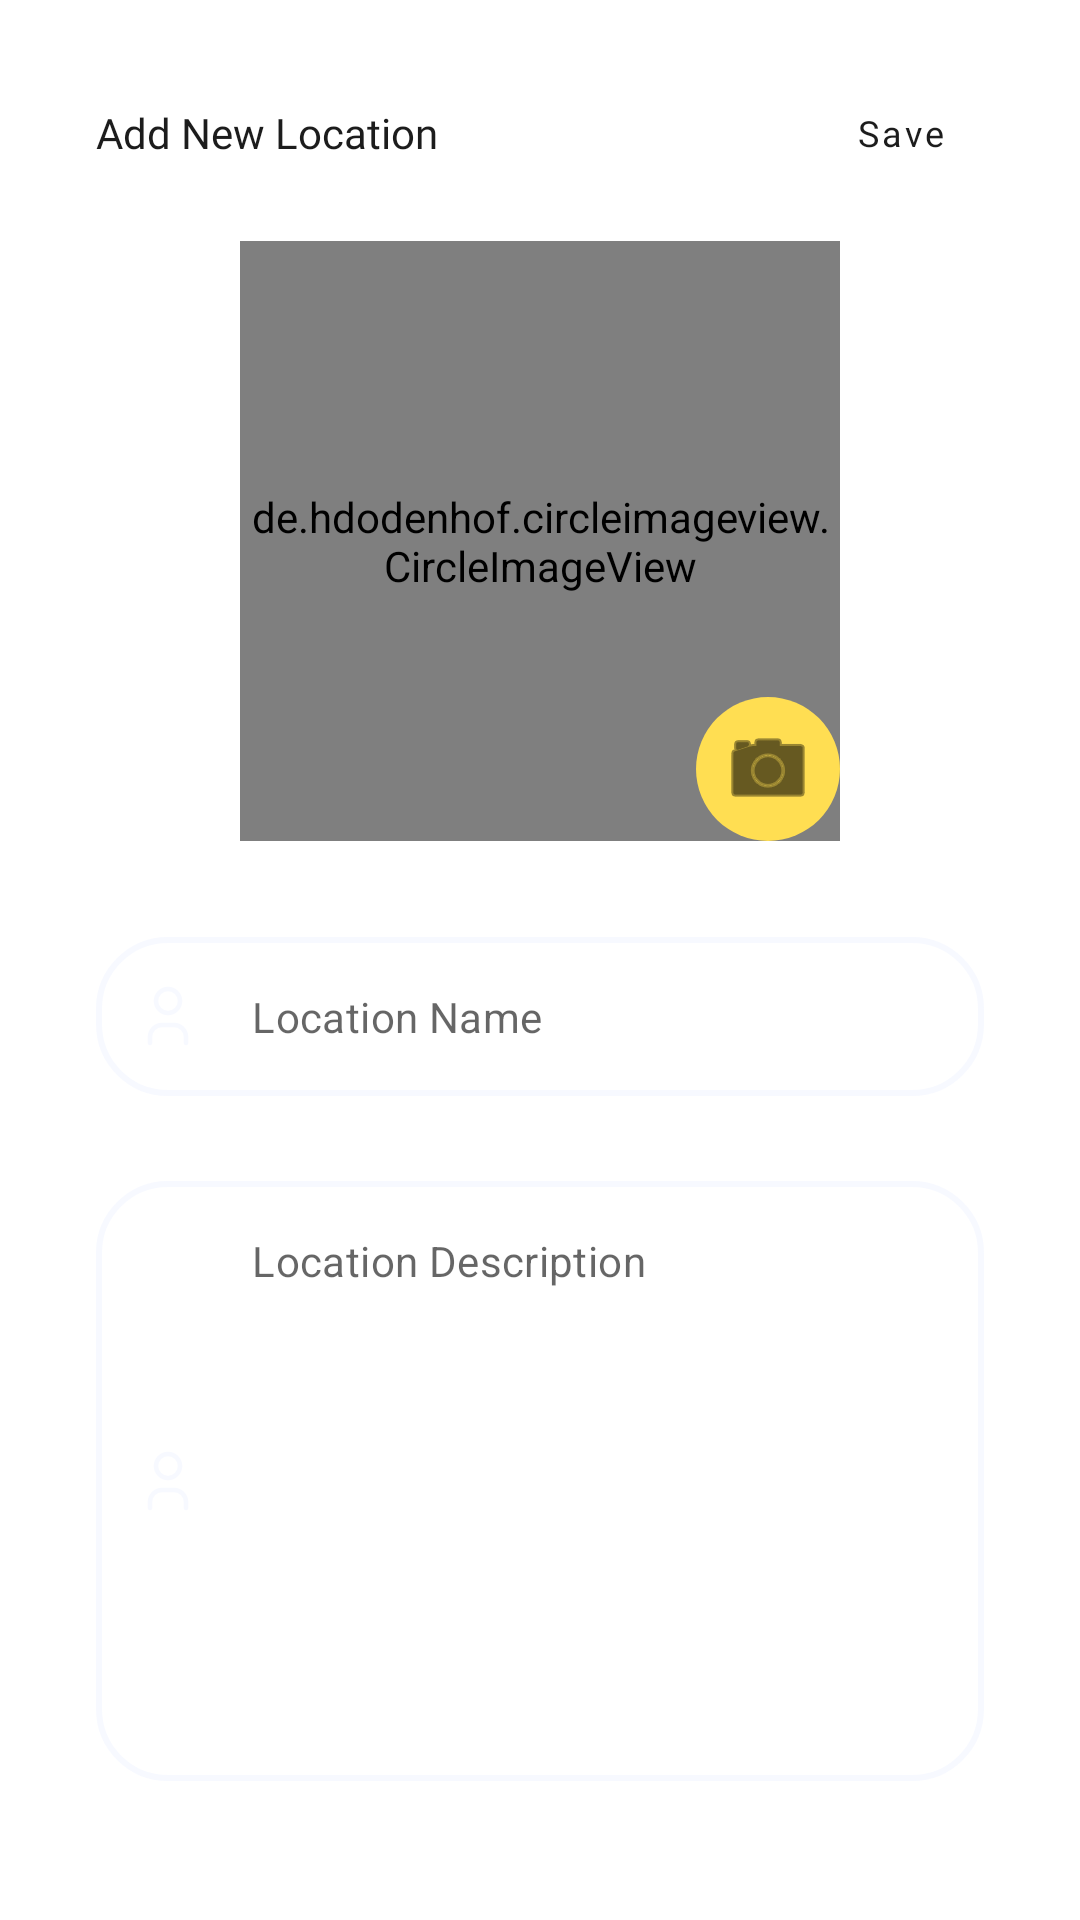

Point at icon controls on the screen. Image size 1080x1920, points as (x,y).
camera: (768,769)
